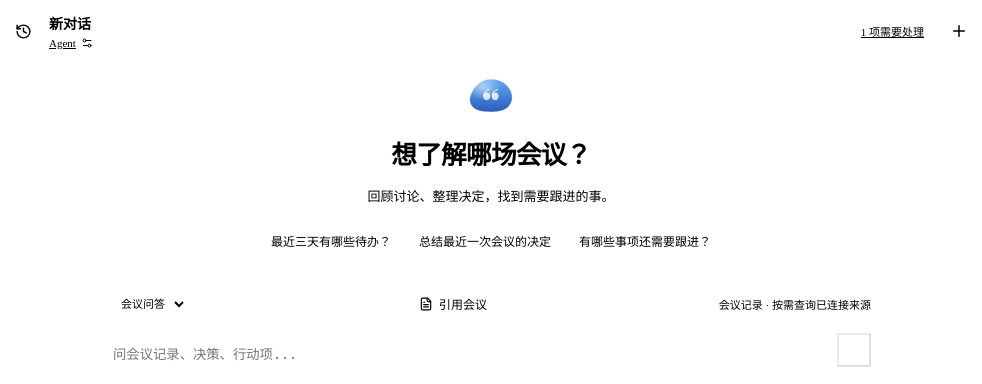
Test: AgentConsole › does not show local citations unless the answer references numbered sources
In the text box with placeholder "问会议记录、决策、行动项...": (470, 355) [111,343,829,367], type "你是谁"
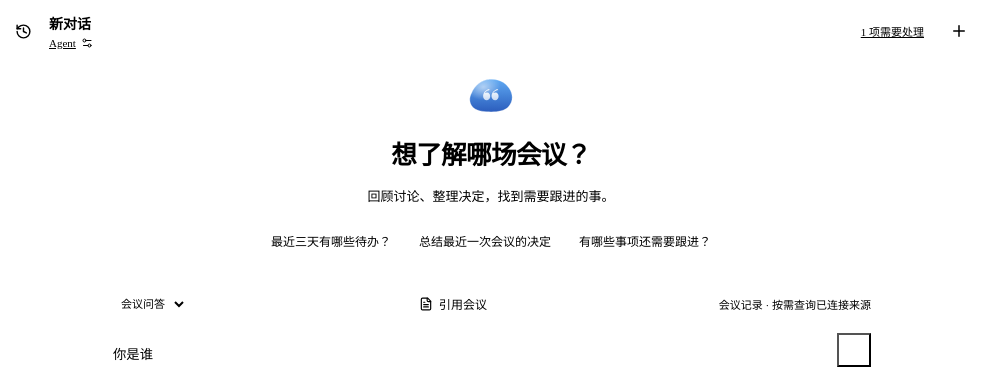
Click the button named "发送": (854, 350) [837,333,871,367]
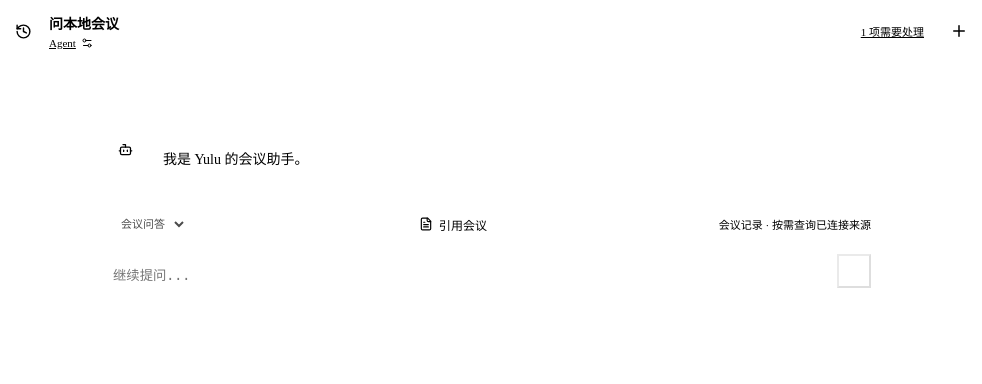
Expected: the text "我是 Yulu 的会议助手。" is shown, [163,148,308,173]
